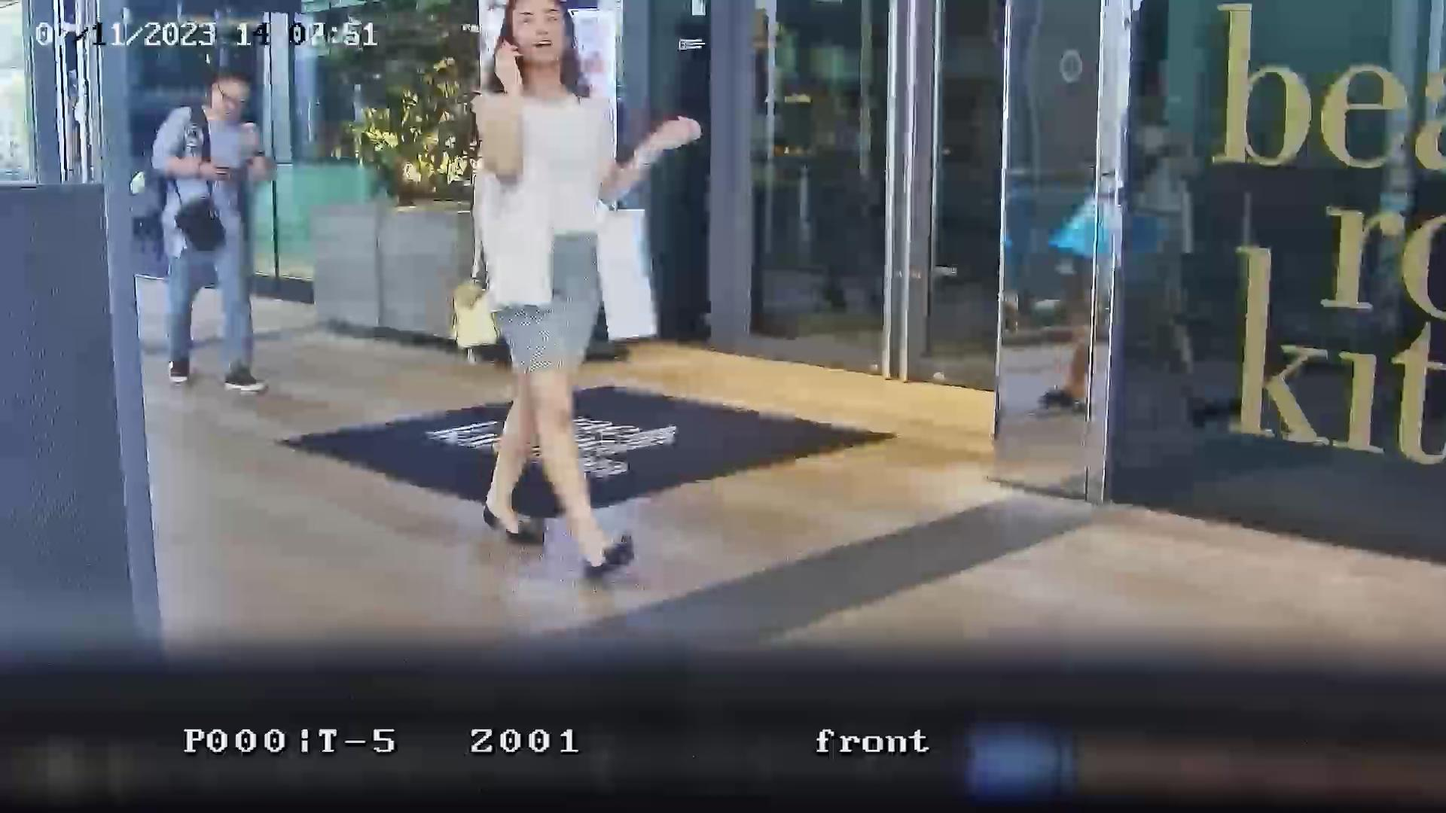person: (467, 0, 700, 580), (151, 66, 276, 395)
